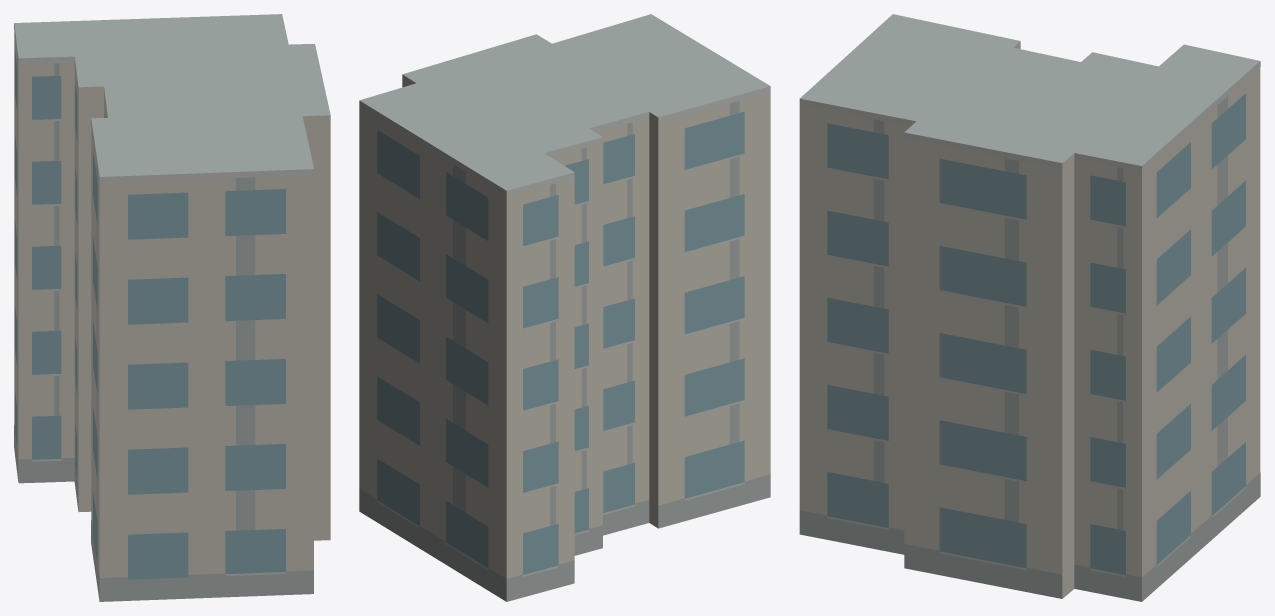
The model's file is survey-upis-32632952.glb.
3 views of the same model, side by side, from view 1: azimuth 30°, elevation 25°; view 2: azimuth 150°, elevation 25°; view 3: azimuth 270°, elevation 25° (orthographic). The views are drawn at different scales.
Parts seen in each view (by area): view 1: survey-upis-32632952.tmp; view 2: survey-upis-32632952.tmp; view 3: survey-upis-32632952.tmp.
Part boxes in pixels (box(x1,y1,x2,y2)): survey-upis-32632952.tmp: box(14, 14, 330, 601); survey-upis-32632952.tmp: box(359, 14, 770, 601); survey-upis-32632952.tmp: box(799, 14, 1260, 601).
Bounding box in the file's own units: 12.73 × 17 × 16.3.
